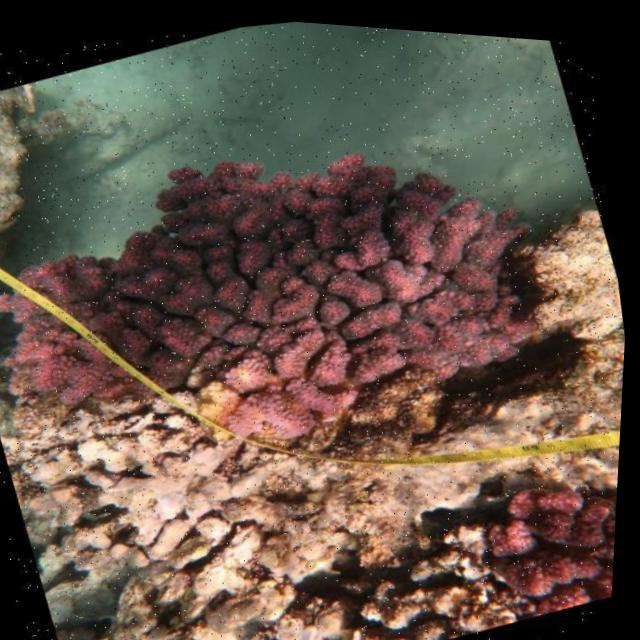Healthy Coral: (0, 39, 595, 544), (459, 429, 624, 626)
